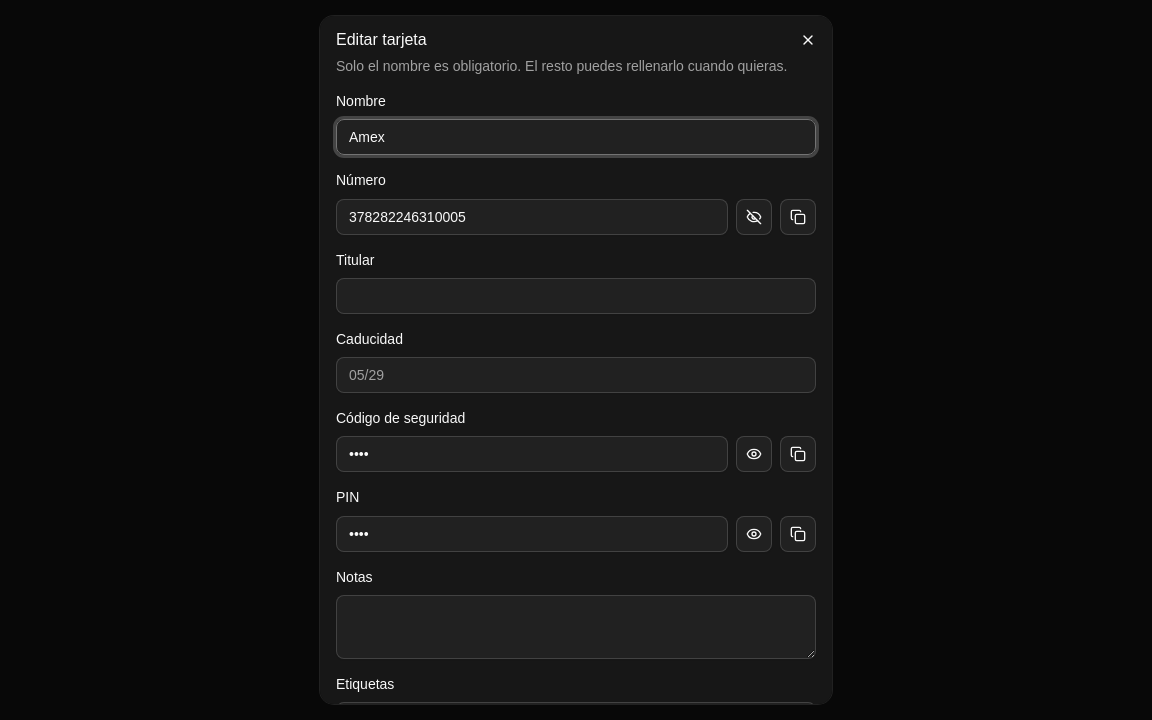
Scenario: what a card copies as a secret › clears the clipboard after copying «el PIN»
Step 1. Click the button named "Copiar el PIN" → x=798, y=534, box left=780, top=516, right=816, bottom=552
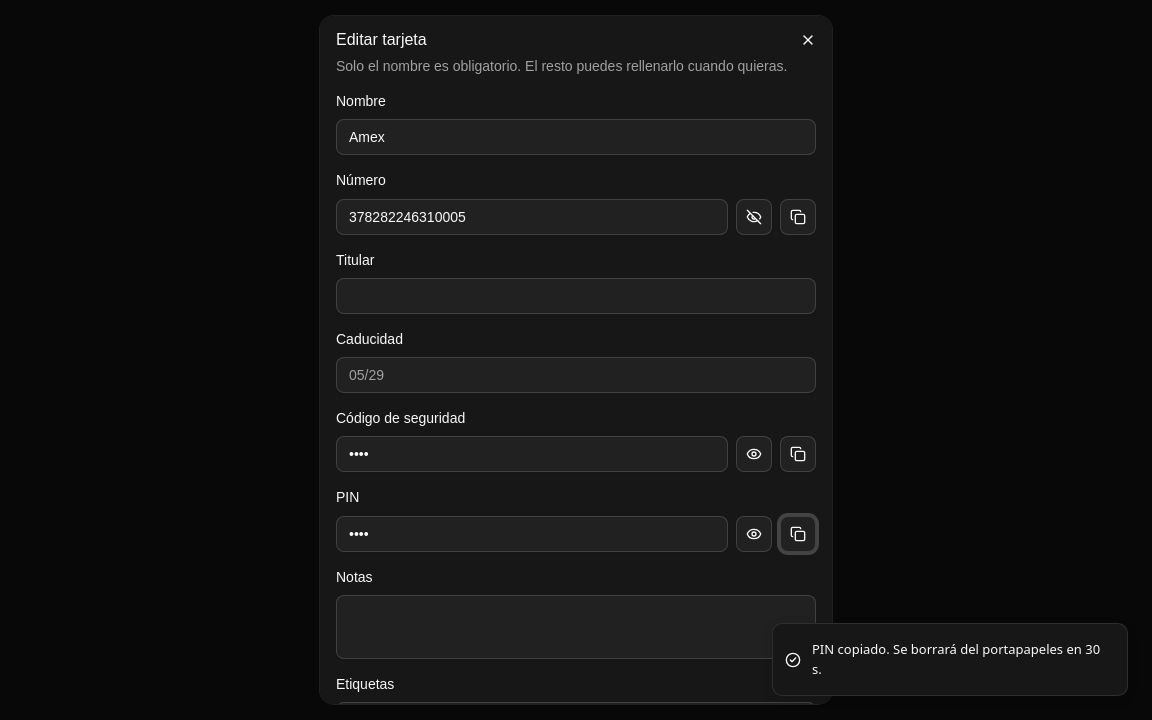
Expected: the text "PIN copiado. Se borrará del portapapeles en 30 s." is shown, left=812, top=640, right=1111, bottom=679
